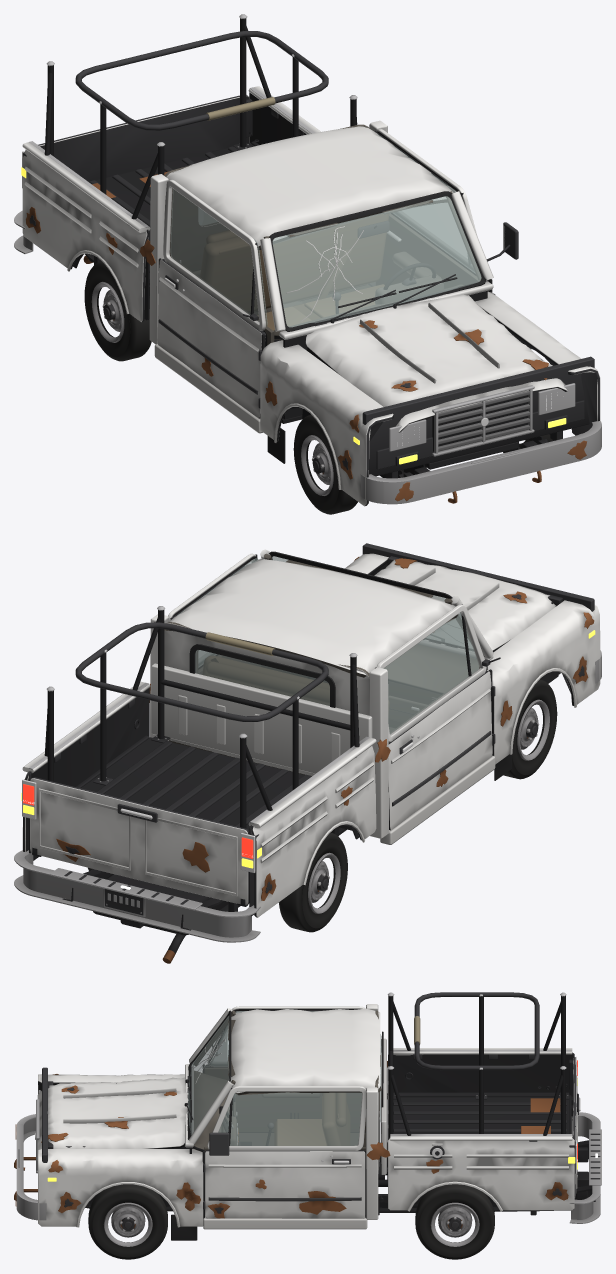
The model's file is dev_notex.glb.
3 views of the same model, one above another, from view 1: azimuth 30°, elevation 25°; view 2: azimuth 150°, elevation 25°; view 3: azimuth 270°, elevation 25° (orthographic). The views are drawn at different scales.
Parts seen in each view (by area): view 1: body, panel_door_R, panel_hood, panel_fender_R, panel_tailgate, panel_bumper_F, panel_door_L, wheel_RR, panel_fender_L, wheel_FR; view 2: body, panel_door_R, panel_tailgate, panel_fender_R, panel_bumper_R, panel_hood, wheel_RR, wheel_FR, panel_door_L, panel_fender_L; view 3: body, panel_door_L, panel_fender_L, panel_hood, wheel_RL, wheel_FL, panel_bumper_R, panel_door_R, panel_bumper_F, panel_fender_R, panel_tailgate.
Boxes of the visible parts, left/top/right/bottom form: body: left=21, top=14, right=594, bottom=503; panel_door_R: left=157, top=179, right=267, bottom=418; panel_hood: left=305, top=294, right=567, bottom=432; panel_fender_R: left=260, top=340, right=393, bottom=506; panel_tailgate: left=38, top=95, right=262, bottom=181; panel_bumper_F: left=360, top=421, right=601, bottom=504; panel_door_L: left=376, top=128, right=518, bottom=294; wheel_RR: left=84, top=261, right=151, bottom=361; panel_fender_L: left=475, top=291, right=600, bottom=435; wheel_FR: left=293, top=414, right=357, bottom=514; body: left=21, top=543, right=594, bottom=963; panel_door_R: left=376, top=604, right=500, bottom=830; panel_tailgate: left=30, top=777, right=249, bottom=906; panel_fender_R: left=487, top=600, right=600, bottom=780; panel_bumper_R: left=14, top=850, right=260, bottom=942; panel_hood: left=374, top=558, right=555, bottom=650; wheel_RR: left=278, top=832, right=347, bottom=932; wheel_FR: left=503, top=679, right=557, bottom=779; panel_door_L: left=168, top=553, right=258, bottom=669; panel_fender_L: left=345, top=553, right=388, bottom=575; body: left=14, top=992, right=595, bottom=1229; panel_door_L: left=203, top=1086, right=365, bottom=1218; panel_fender_L: left=38, top=1149, right=203, bottom=1240; panel_hood: left=37, top=1077, right=188, bottom=1160; wheel_RL: left=415, top=1184, right=494, bottom=1259; wheel_FL: left=88, top=1184, right=167, bottom=1259; panel_bumper_R: left=569, top=1112, right=601, bottom=1223; panel_door_R: left=205, top=1006, right=365, bottom=1132; panel_bumper_F: left=15, top=1114, right=46, bottom=1220; panel_fender_R: left=38, top=1074, right=184, bottom=1093; panel_tailgate: left=537, top=1057, right=580, bottom=1198.
Size of the model in its own units: 2.08 by 1.78 by 4.95.
